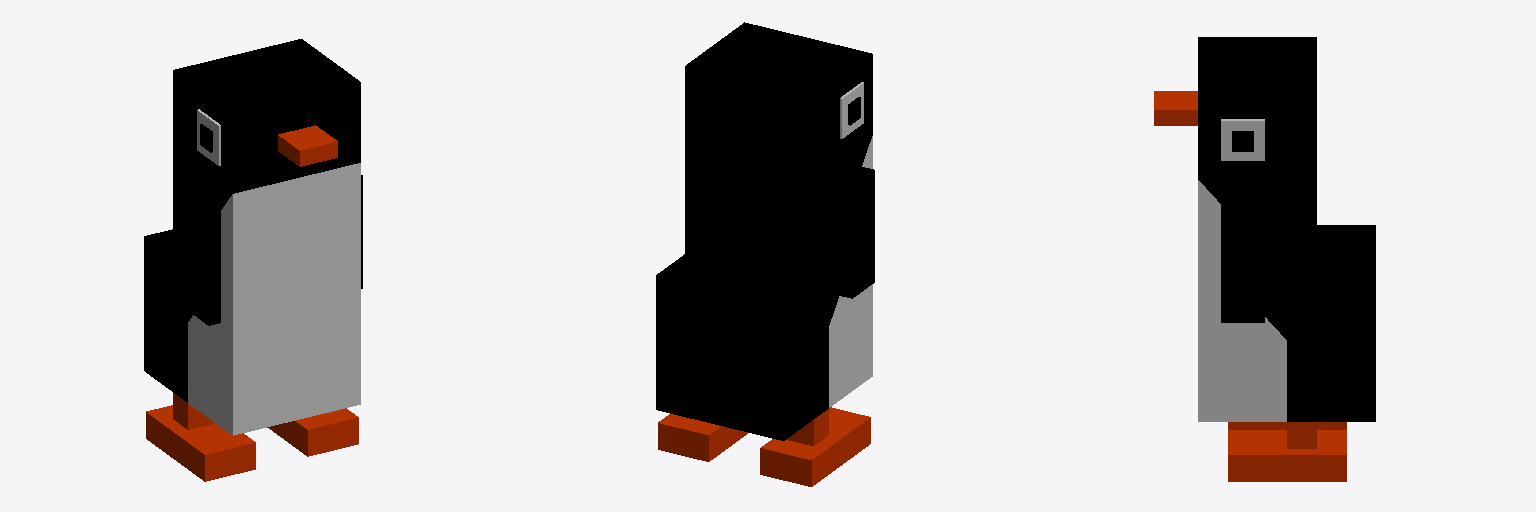
Rendered from penguin.obj.
3 views of the same model, side by side, from view 1: azimuth 30°, elevation 25°; view 2: azimuth 150°, elevation 25°; view 3: azimuth 270°, elevation 25° (orthographic).
Parts seen in each view (by area): view 1: Cube; view 2: Cube; view 3: Cube.
Boxes of the visible parts, box(x1,y1,x2,y2) form: Cube: box(144, 39, 362, 481); Cube: box(656, 22, 874, 486); Cube: box(1154, 37, 1375, 481).
Bounding box in the file's own units: 6 × 14 × 8.5.